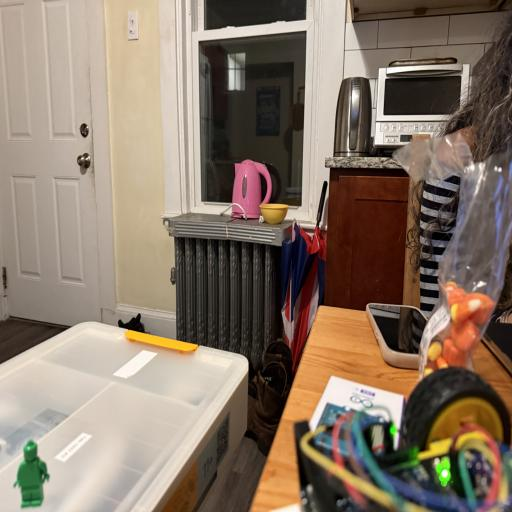Minifig: (14, 440, 49, 507)
